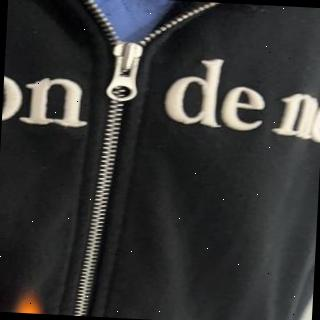fire: (16, 291, 42, 314)
